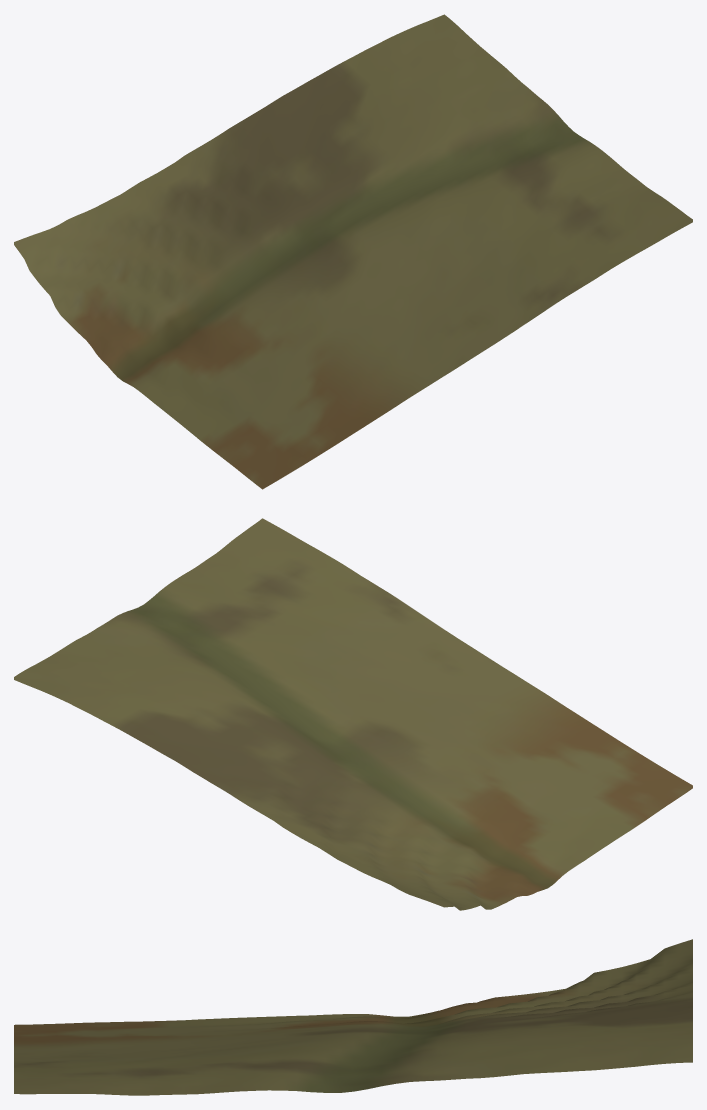
File: land_m_09_03.glb
3 views of the same model, one above another, from view 1: azimuth 30°, elevation 25°; view 2: azimuth 150°, elevation 25°; view 3: azimuth 270°, elevation 25° (orthographic). The views are drawn at different scales.
Visible parts, largest first — view 1: land_m_09_03; view 2: land_m_09_03; view 3: land_m_09_03.
Boxes of the visible parts, x1,y1,x2,y2 form: land_m_09_03: [14, 14, 692, 489]; land_m_09_03: [14, 518, 692, 910]; land_m_09_03: [14, 939, 692, 1095].
Size of the model in its own units: 960 by 401 by 960.
